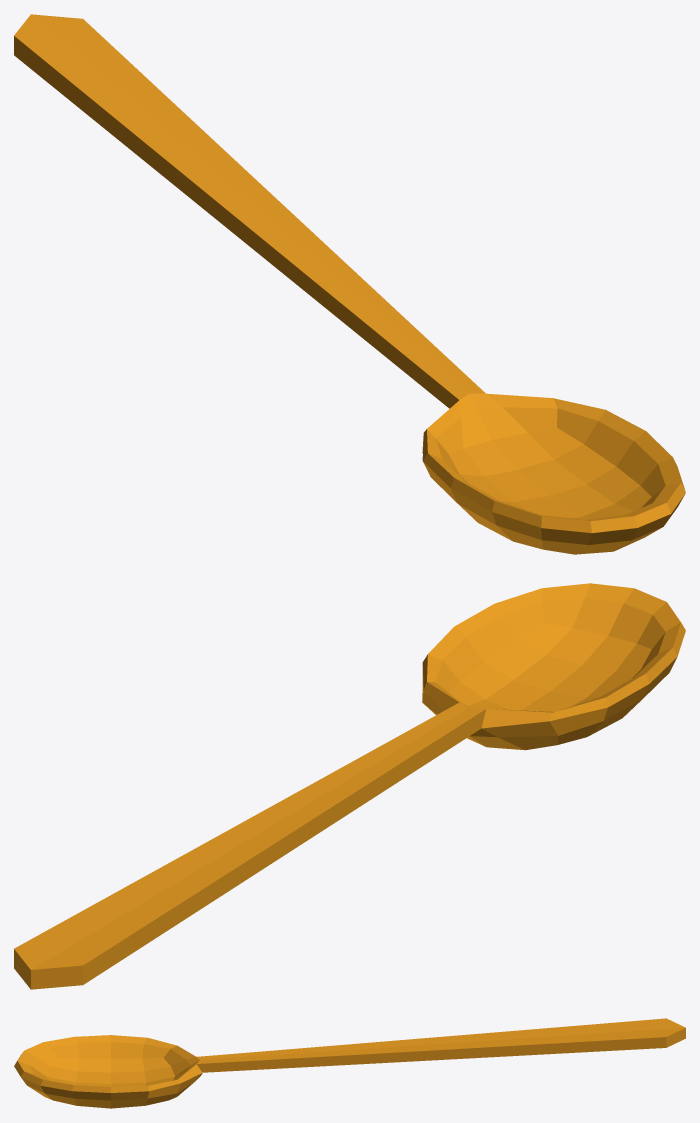
The model's file is cuchara.fbx.
3 views of the same model, one above another, from view 1: azimuth 30°, elevation 25°; view 2: azimuth 150°, elevation 25°; view 3: azimuth 270°, elevation 25° (orthographic). The views are drawn at different scales.
Visible parts, largest first — view 1: Cubo; view 2: Cubo; view 3: Cubo.
Part boxes in pixels (x1,y1,x2,y2): Cubo: [14, 14, 685, 554]; Cubo: [14, 583, 685, 989]; Cubo: [14, 1018, 685, 1108].
Bounding box in the file's own units: 5.52 × 3.33 × 29.15.
